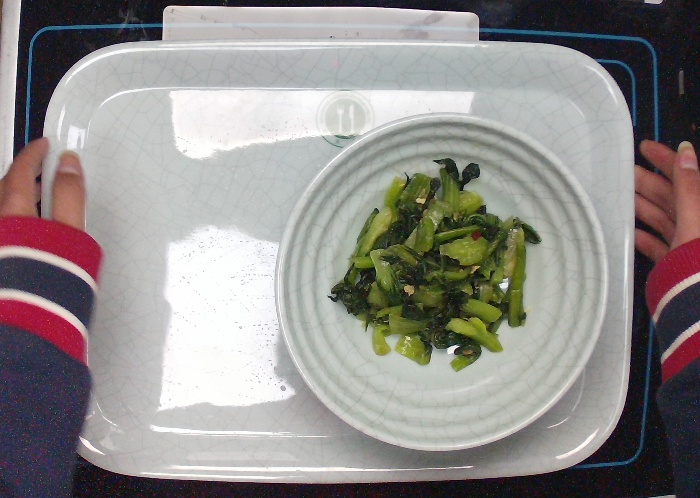JYsf-Da_Tang_Wan: (268, 106, 620, 462)
